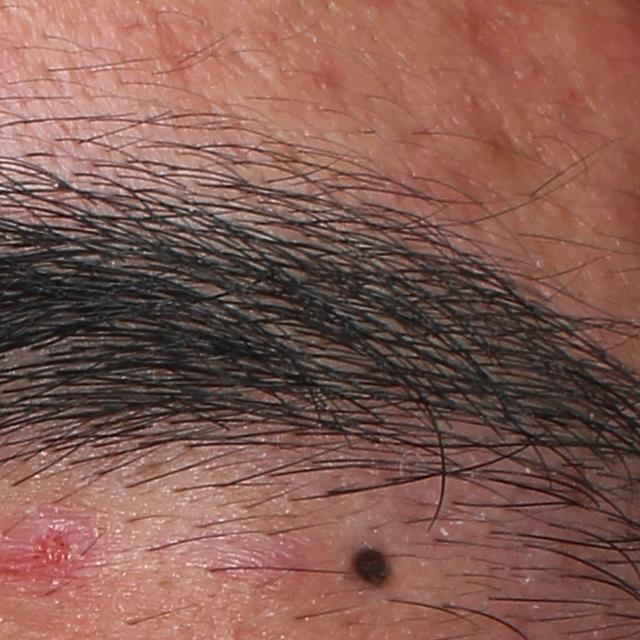nevus: (349, 541, 393, 590)
